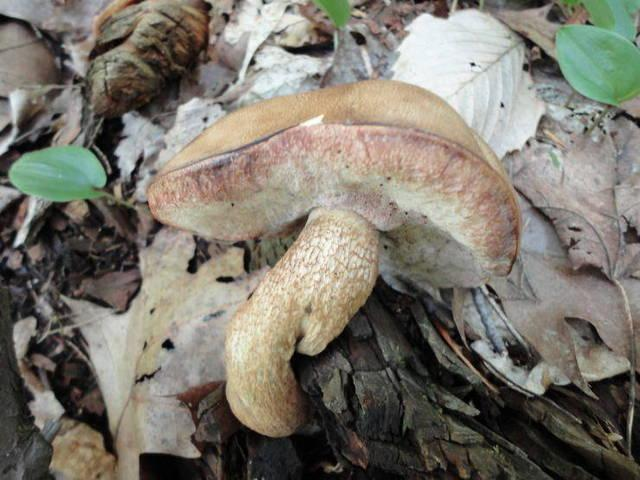Non-edible Mushroom: (145, 77, 523, 438)
